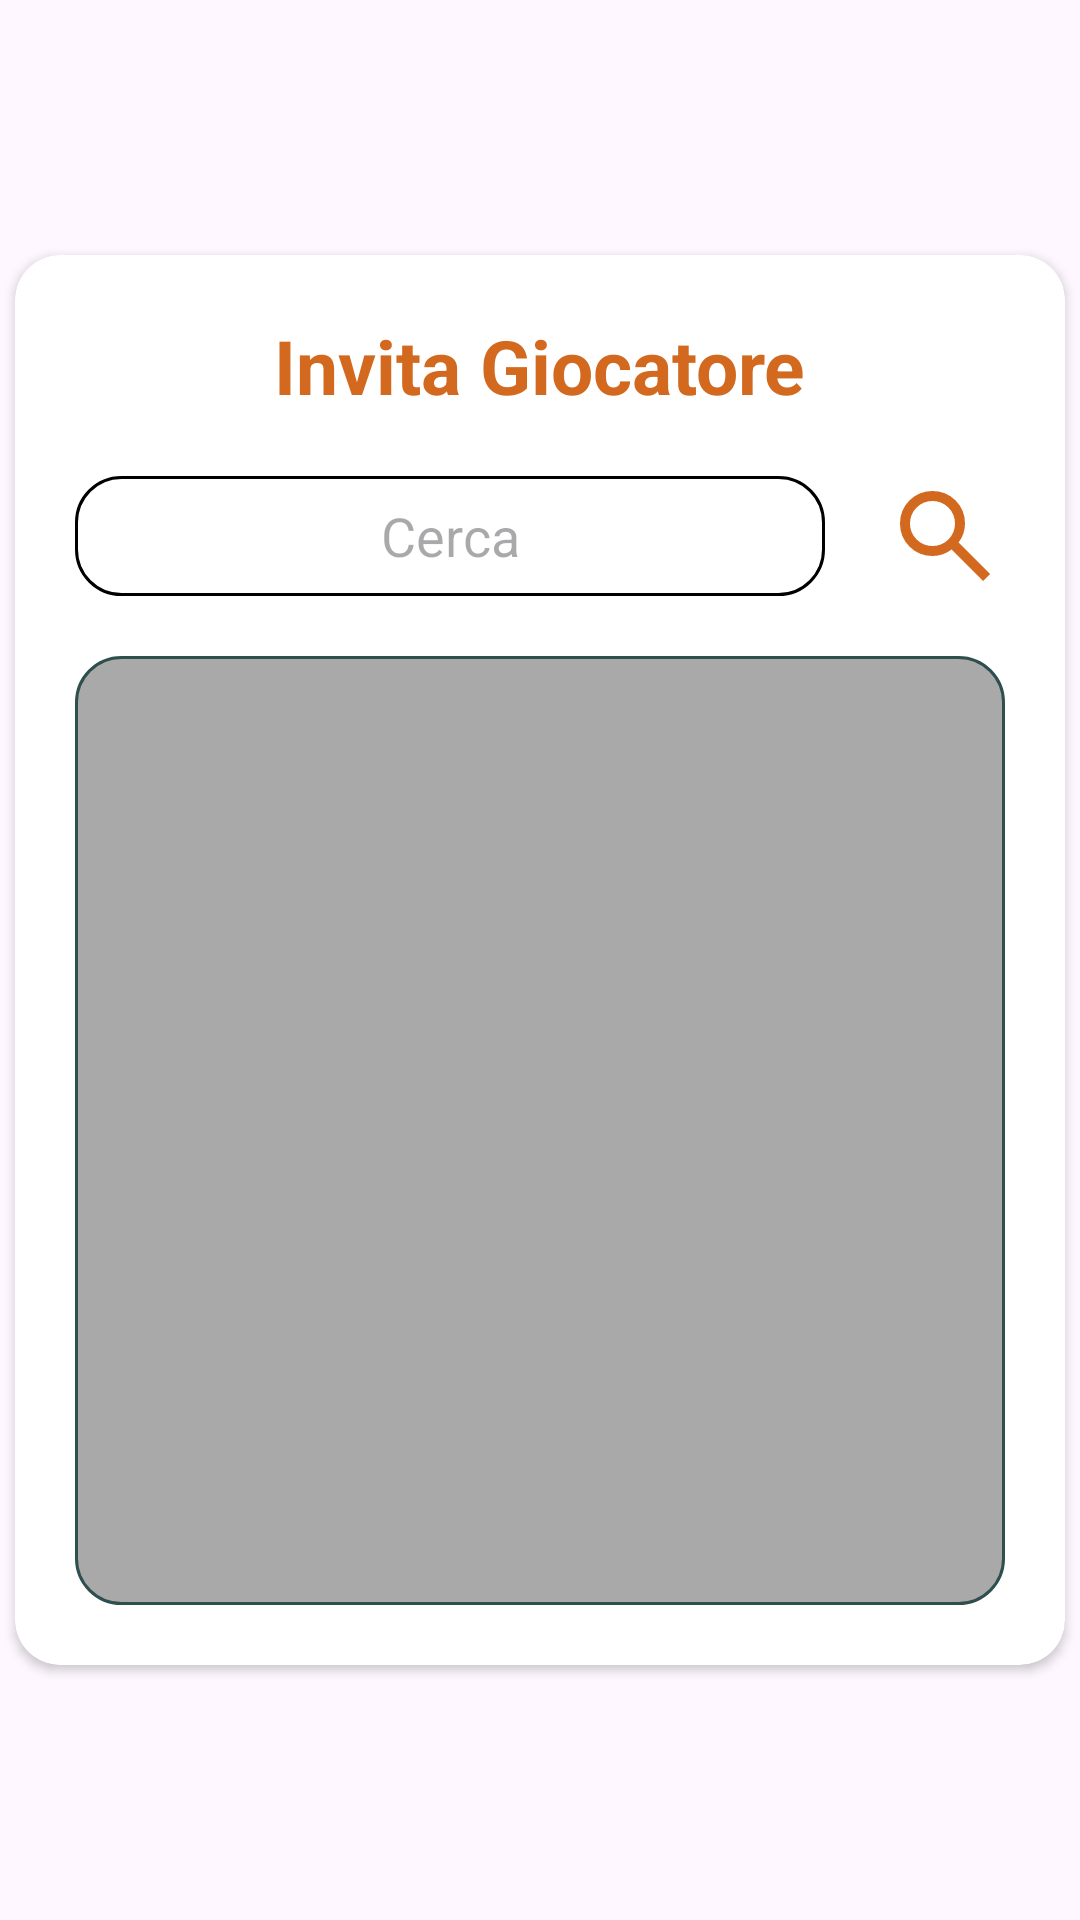

Where to tap for icons on this 1080x1920 app screen, as (x,y):
symbols search: (945,536)
